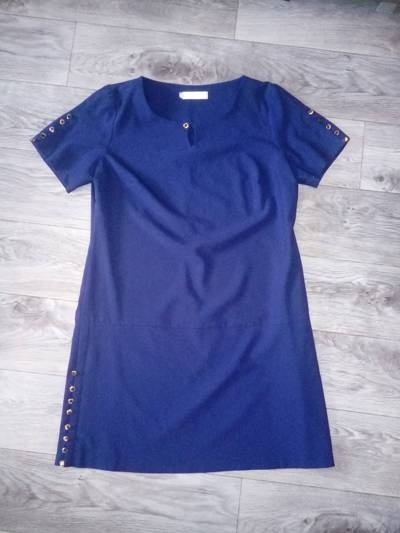Dress: (6, 37, 371, 490)
